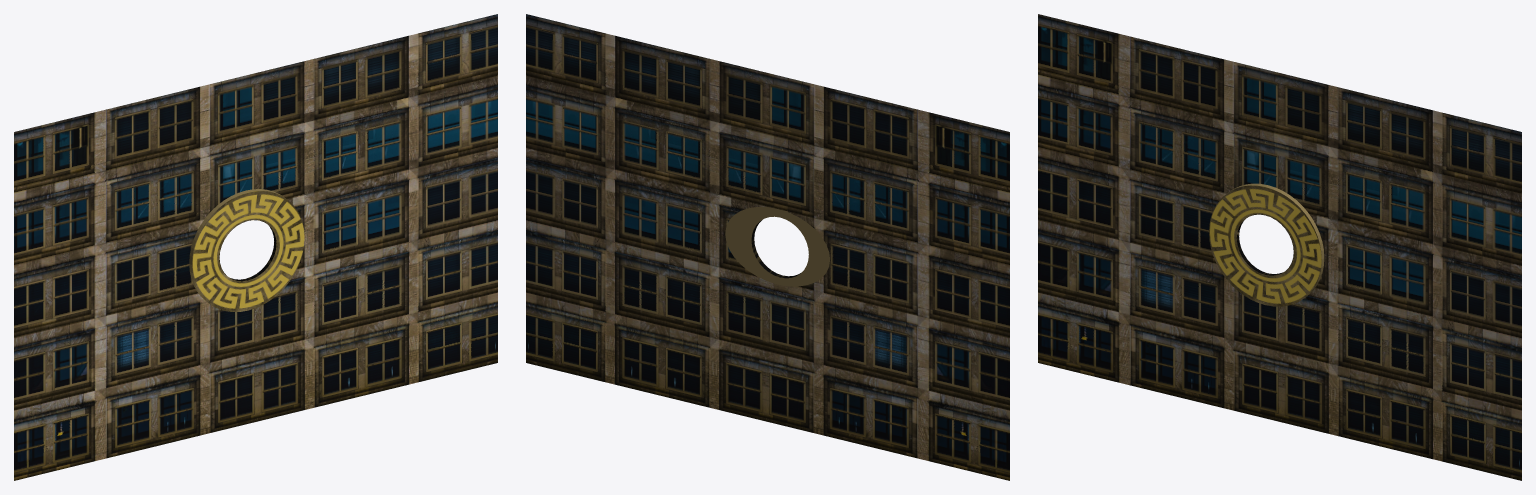
The model's file is azteca-pared.glb.
3 views of the same model, side by side, from view 1: azimuth 30°, elevation 25°; view 2: azimuth 150°, elevation 25°; view 3: azimuth 330°, elevation 25° (orthographic).
Visible parts, largest first — view 1: Plane.001, BézierCircle; view 2: Plane.001, BézierCircle; view 3: Plane.001, BézierCircle.
Part boxes in pixels (box(x1,y1,x2,y2)): Plane.001: box(14, 14, 497, 480); BézierCircle: box(189, 189, 304, 311); Plane.001: box(526, 14, 1009, 480); BézierCircle: box(725, 207, 829, 286); Plane.001: box(1038, 14, 1521, 480); BézierCircle: box(1209, 183, 1324, 306).
Size of the model in its own units: 539 by 371 by 6.59.
2 materials, 2 textured.
